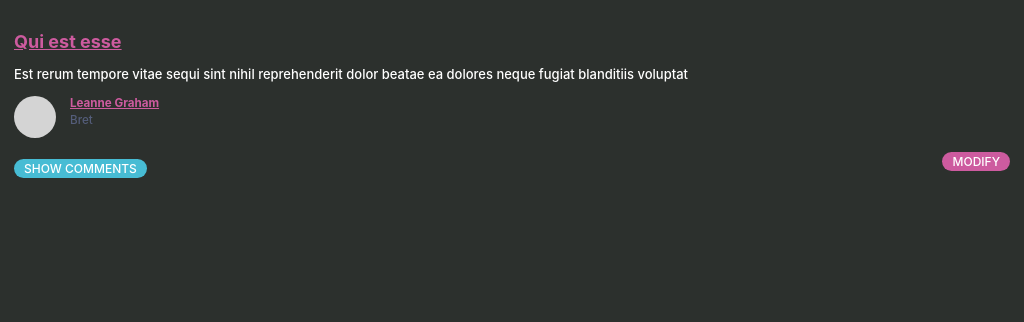
Test case: Click show comments
Step 1. Click the button "Show comments" → point(80, 168), box [14,158,147,178]
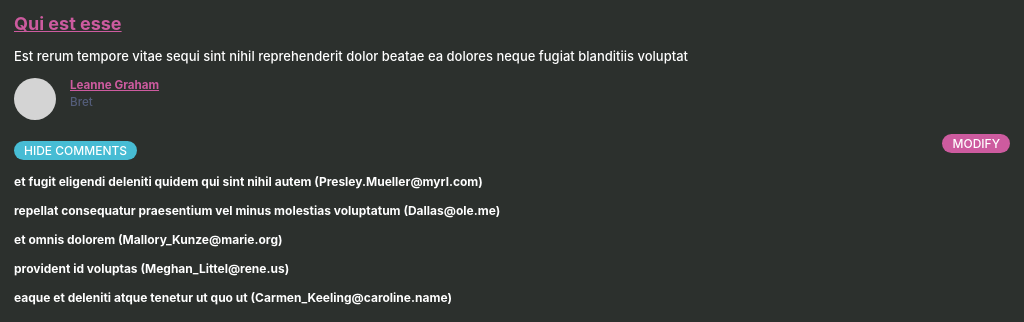
Expected: the text "Hide comments" is shown, [14,141,137,160]
